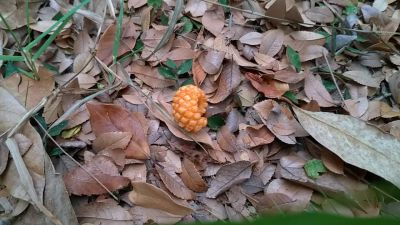eggs: (169, 82, 211, 134)
